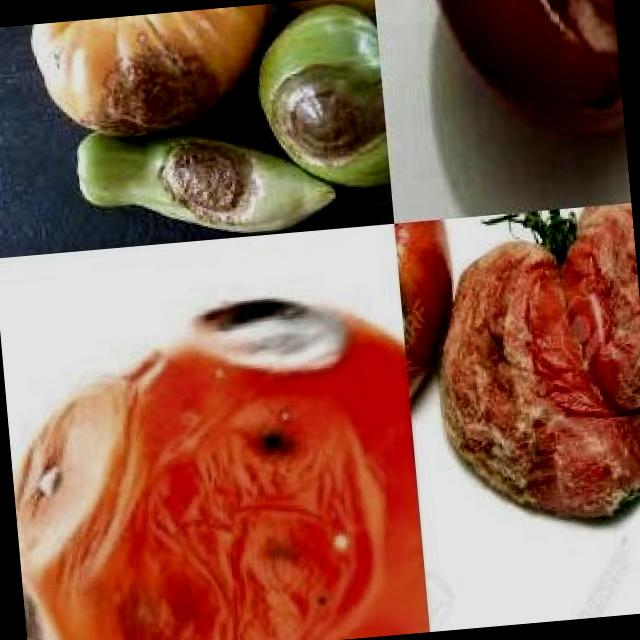Rotten_Tomato: (0, 275, 429, 640), (409, 202, 640, 546), (70, 102, 342, 250), (422, 0, 627, 175), (27, 4, 275, 144), (394, 214, 525, 448), (255, 6, 391, 200), (260, 0, 381, 84)
